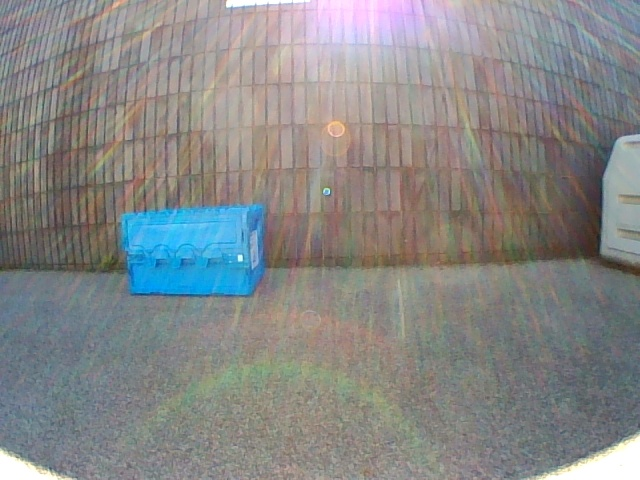blue_box: (122, 206, 263, 295)
tag: (252, 235, 257, 268)
